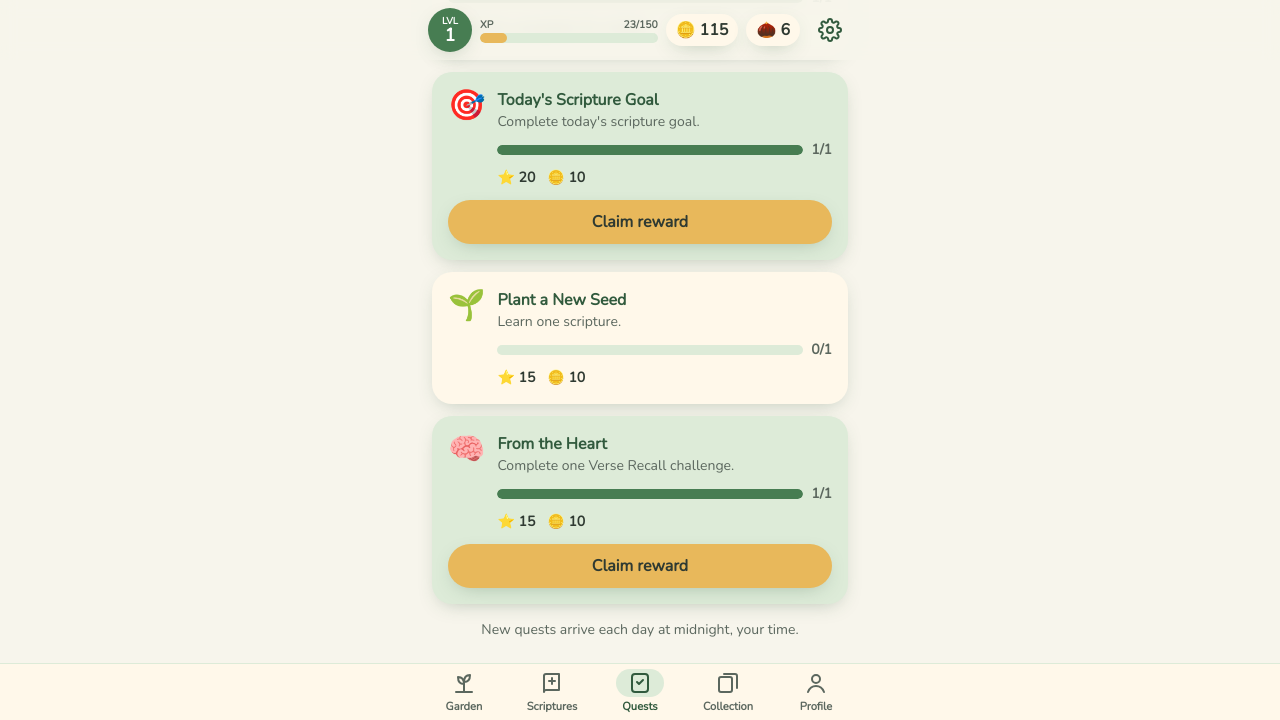
Test: Phase 7 screens › Quests: shows today's quests, and a completed quest can be claimed
(page scrolled)
Expected: the button "Claim reward" below "20" is shown, [448,200,832,244]
Expected: the text "🎉 Goal complete for today!" is shown, [448,17,648,39]
Step 1. Click the button "Claim reward" below "Complete one Verse Recall challenge." → {"x": 640, "y": 566}, box [448,544,832,588]
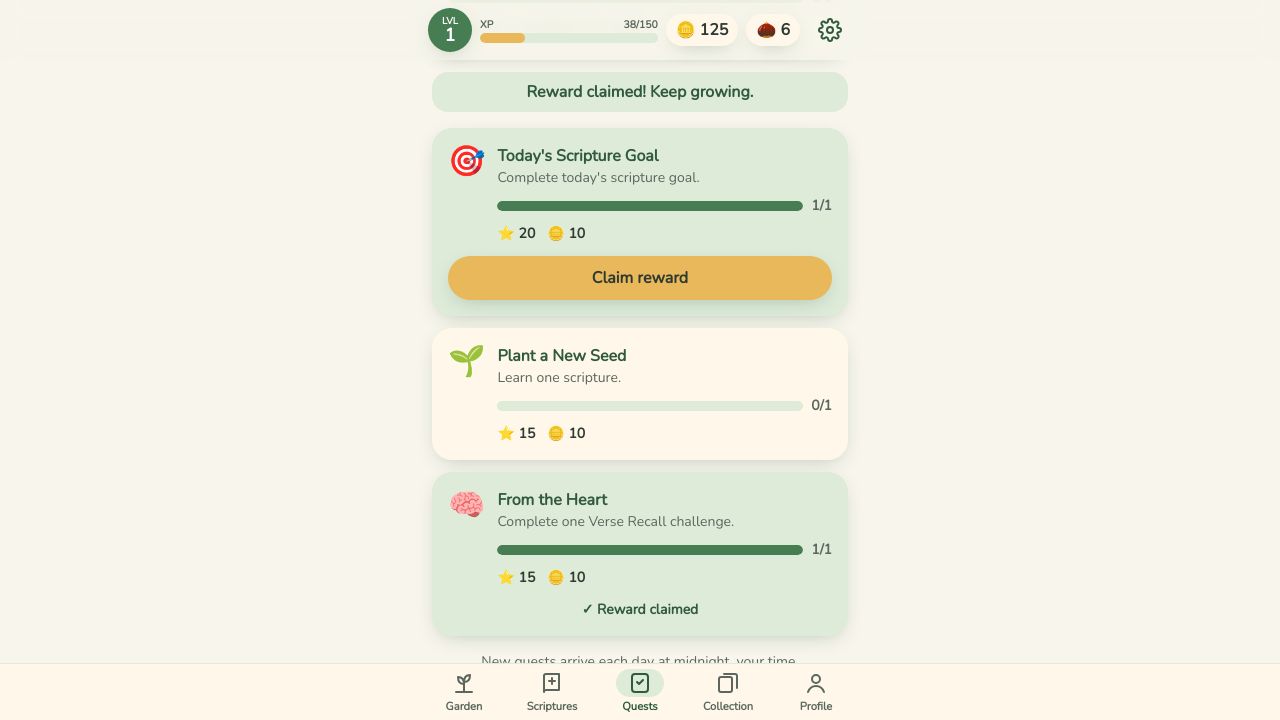
Expected: the text "✓ Reward claimed" is shown, [582,600,698,619]
